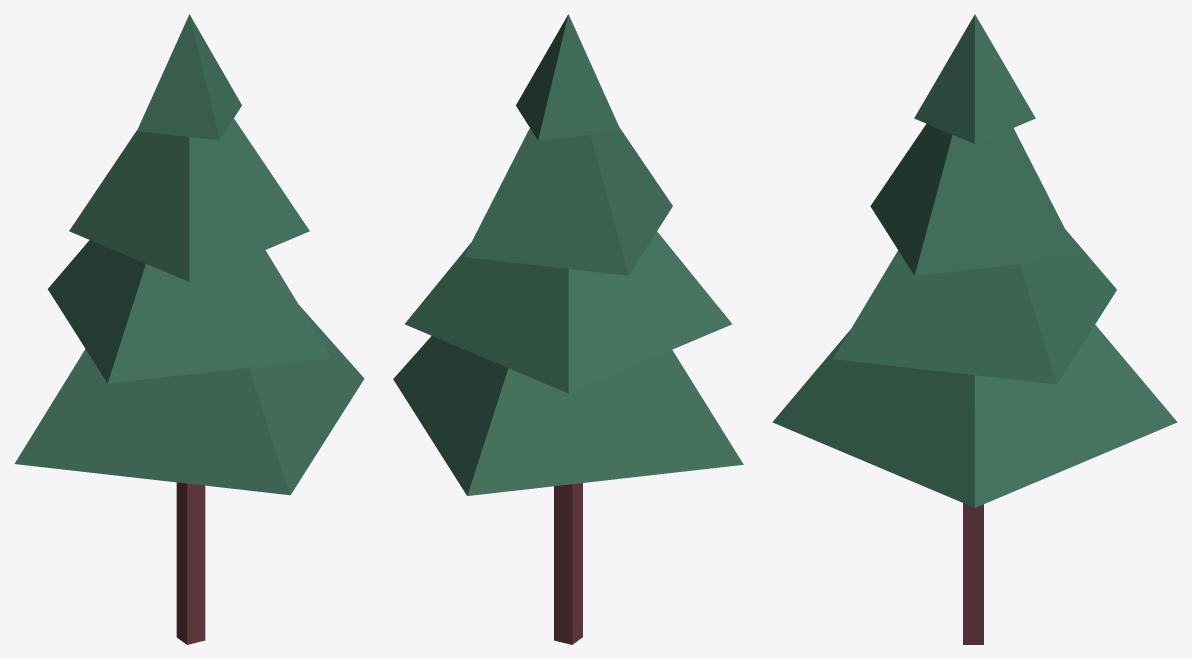
The model's file is Tree_B2.fbx.
3 views of the same model, side by side, from view 1: azimuth 30°, elevation 25°; view 2: azimuth 150°, elevation 25°; view 3: azimuth 270°, elevation 25° (orthographic).
Visible parts, largest first — view 1: pCube7; view 2: pCube7; view 3: pCube7.
Part boxes in pixels (x1,y1,x2,y2): pCube7: (14, 14, 364, 644); pCube7: (393, 14, 743, 644); pCube7: (772, 14, 1177, 644).
Size of the model in its own units: 11.03 by 18.8 by 11.03.
